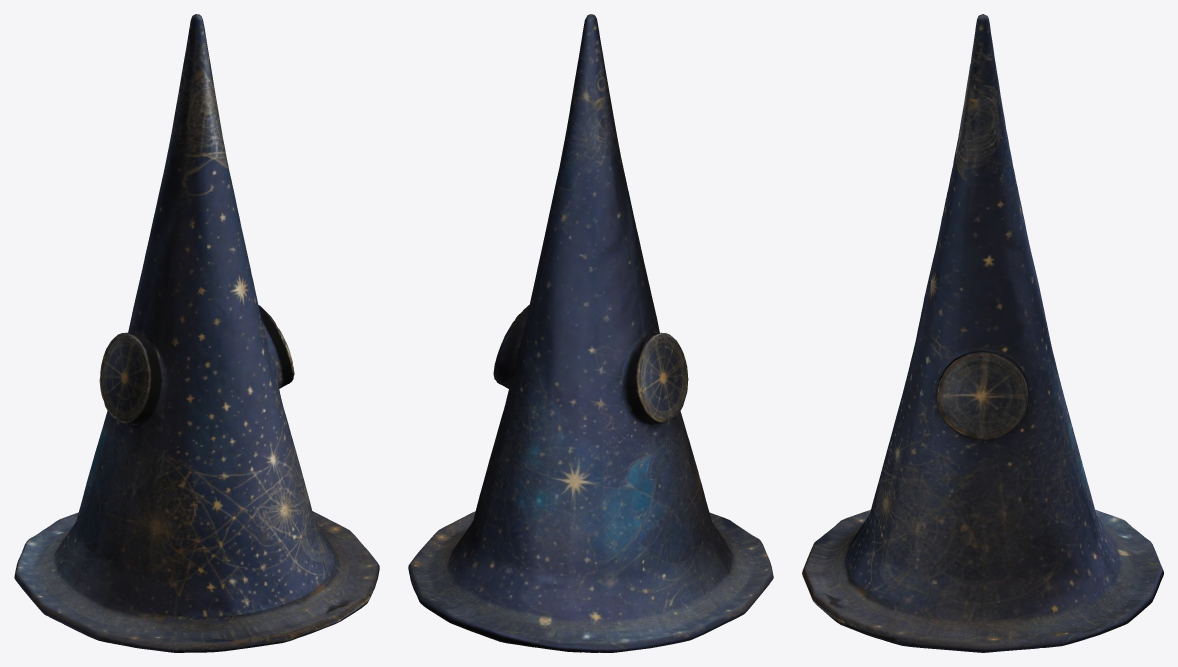
The picture shows the model from 3 angles, left to right: view 1: azimuth 30°, elevation 25°; view 2: azimuth 150°, elevation 25°; view 3: azimuth 270°, elevation 25°; orthographic projection.
Parts seen in each view (by area): view 1: Mesh1; view 2: Mesh1; view 3: Mesh1.
Boxes of the visible parts, box(x1,y1,x2,y2) form: Mesh1: box(14, 14, 379, 652); Mesh1: box(408, 14, 773, 652); Mesh1: box(802, 14, 1163, 652).
Size of the model in its own units: 115 by 200 by 116.
Materials: 1 (1 with a texture image).
